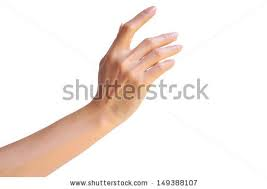hand: (86, 3, 209, 131)
